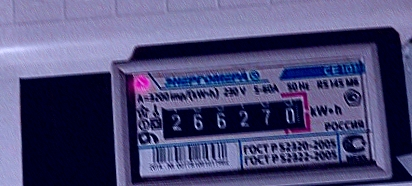0: (282, 105, 295, 123)
2: (167, 112, 182, 130), (236, 108, 249, 126)
6: (190, 111, 204, 130), (213, 110, 227, 129)
7: (259, 106, 271, 125)
screen: (149, 87, 315, 148)
